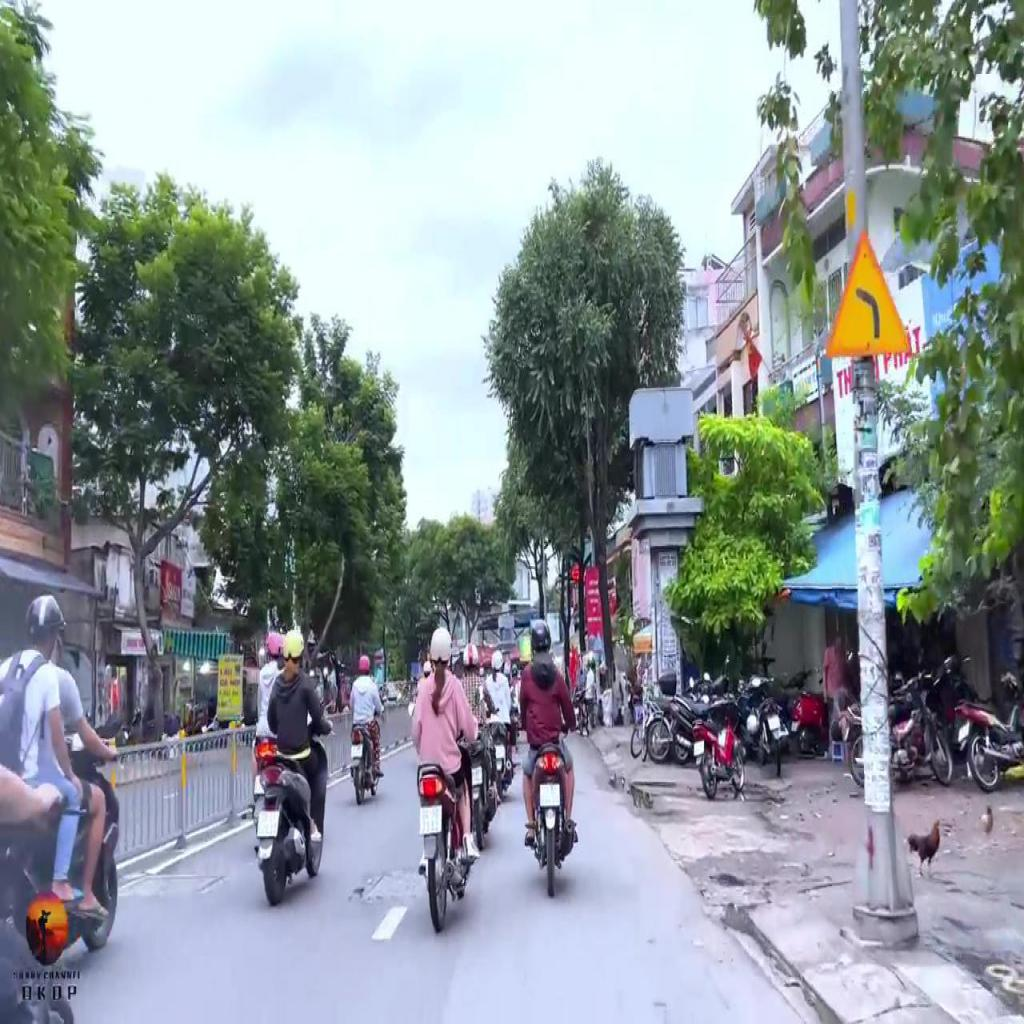cho_ngoat_nguy_hiem_ben_trai: (824, 224, 911, 356)
